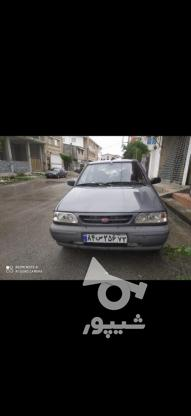car: (82, 233, 127, 243)
